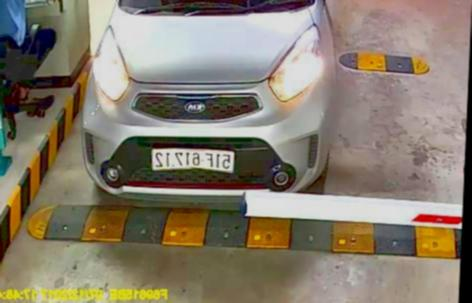License_Plate: (148, 146, 238, 176)
